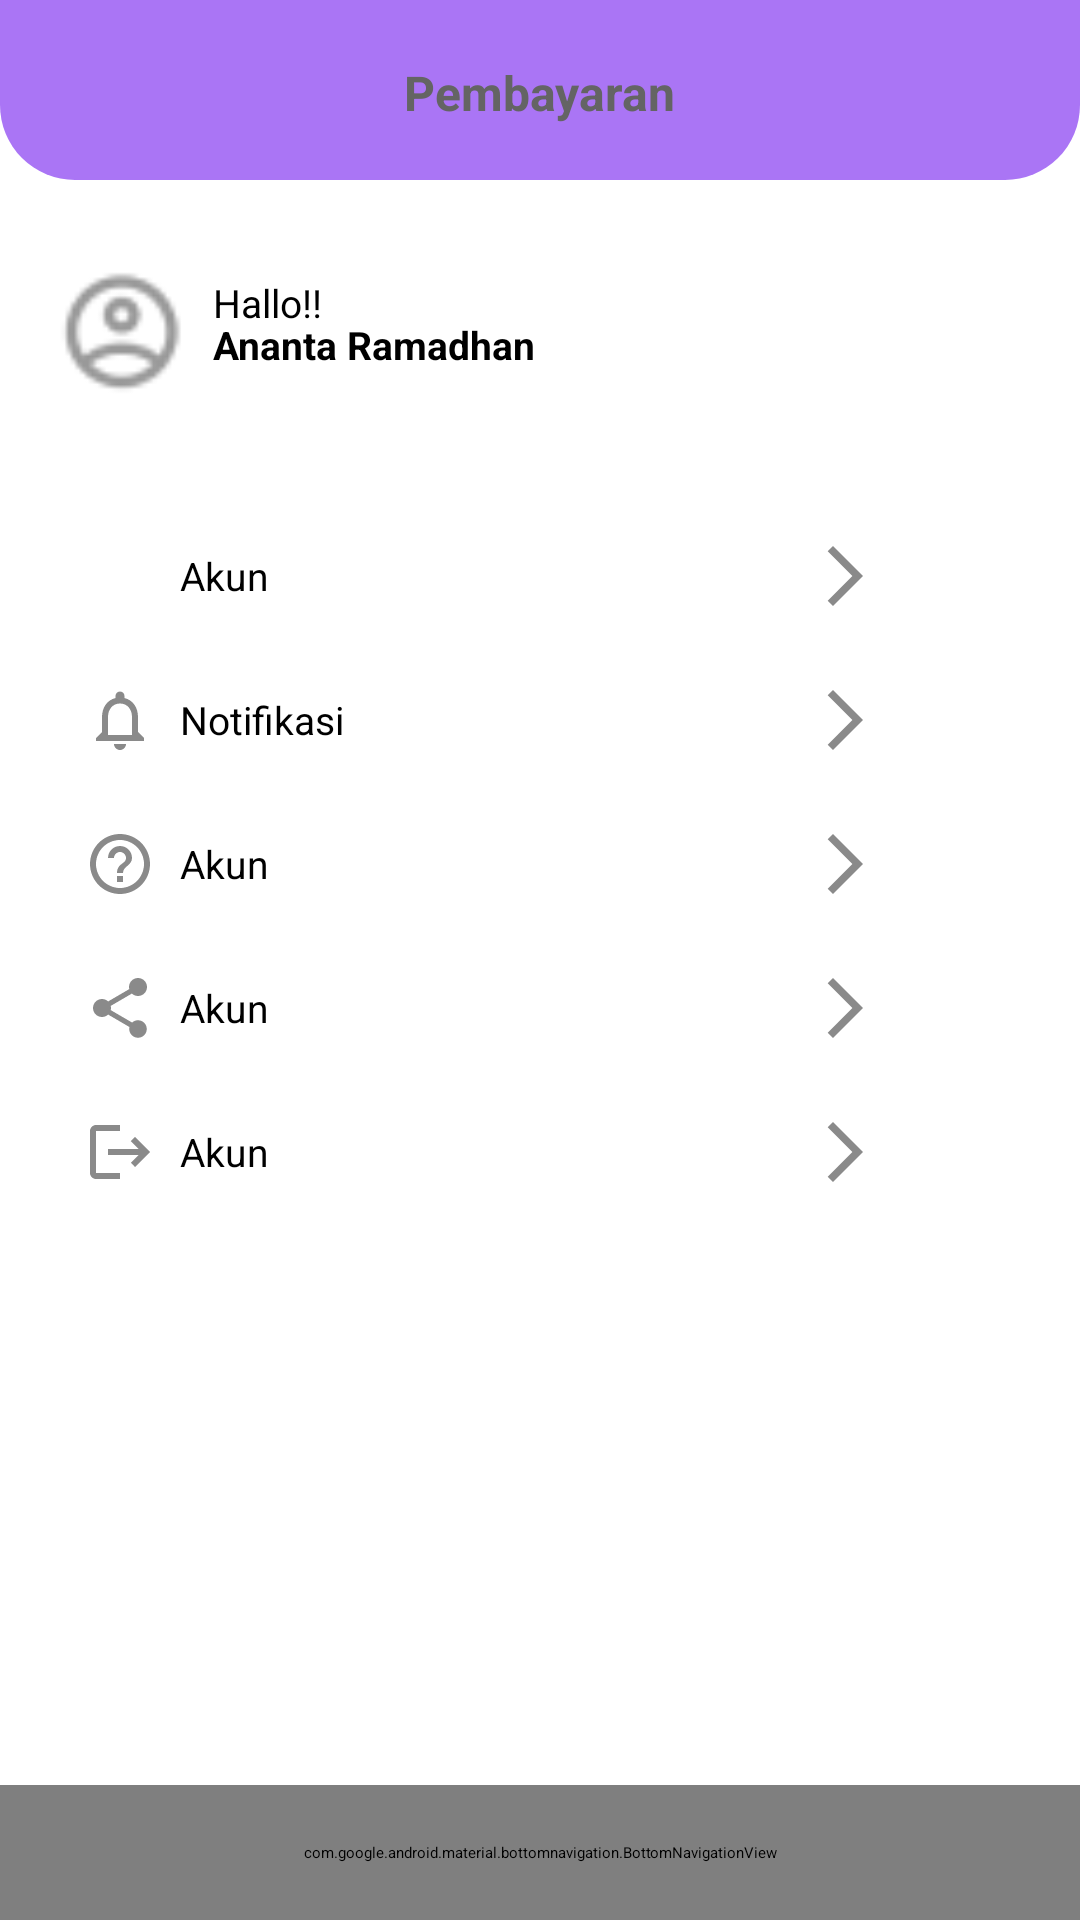

Icon click points for this 1080px×1920px phone screenshot, format (x=x, y=y):
layanan: (x=120, y=864)
morethan: (x=845, y=576), (x=845, y=720), (x=845, y=864), (x=845, y=1008), (x=845, y=1152)
notification: (x=120, y=720)
share: (x=120, y=1008)
